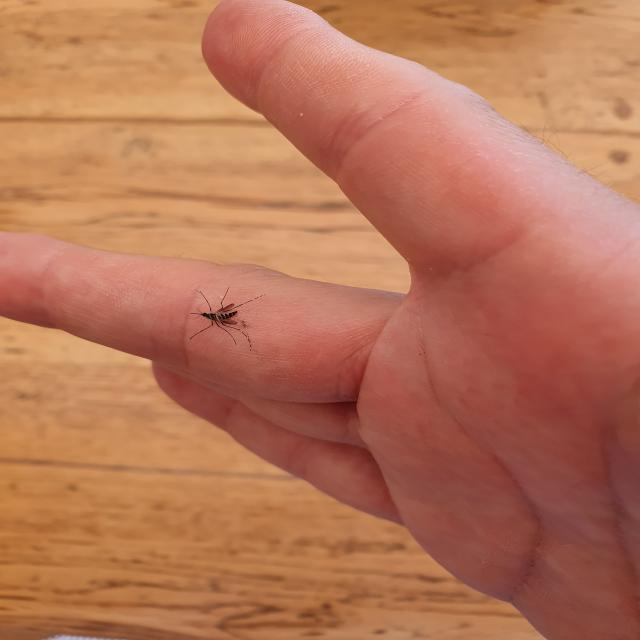albopictus: (180, 280, 268, 352)
